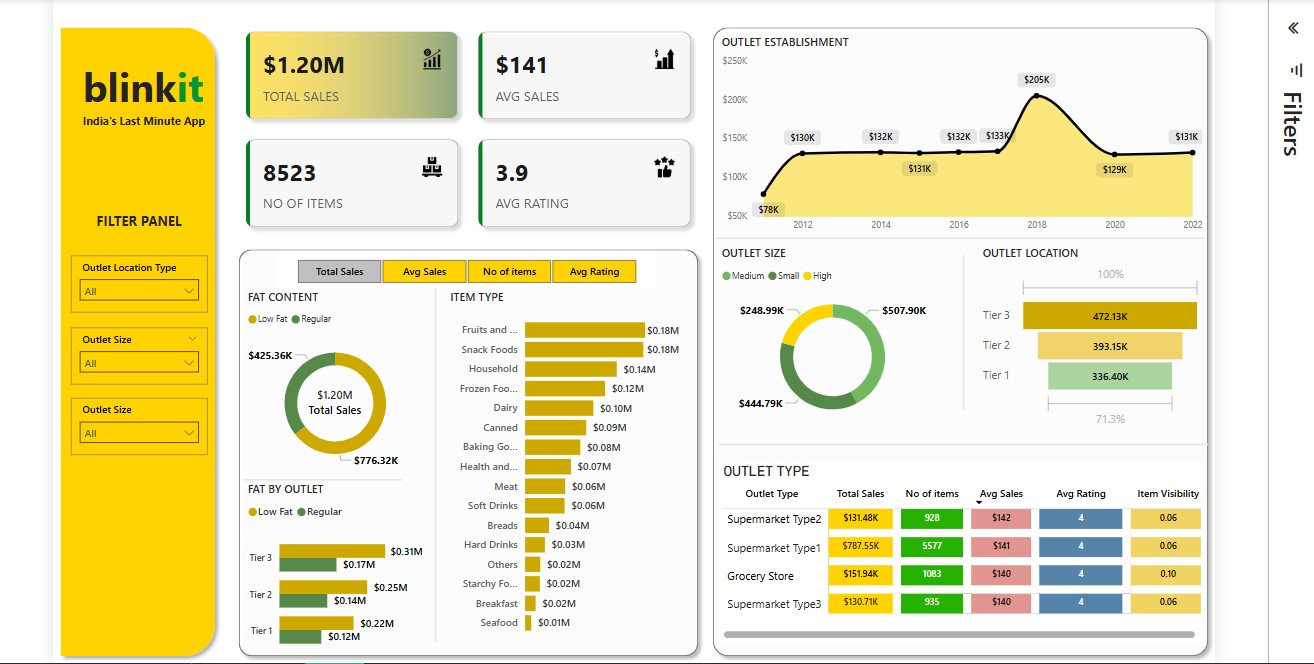

This screenshot's page, from the dashboard's own definition file:
{"tool":"powerbi","page":{"name":"Page 1","canvas":[1400,800],"ordinal":0},"visuals":[{"type":"shape","box":[0,25.3,204.2,775.3],"z":0},{"type":"textbox","box":[269.5,25,205,750],"z":1000},{"type":"textbox","box":[522.5,25,205,750],"z":2000},{"type":"textbox","box":[31,66.1,165.4,84.7],"z":3000},{"type":"textbox","box":[31,132.3,165.4,49.6],"z":4000},{"type":"cardVisual","fields":{"Data":["BlinkIT Grocery Data.Total Sales","BlinkIT Grocery Data.Avg Sales","BlinkIT Grocery Data.No of items","BlinkIT Grocery Data.Avg Rating"]},"box":[215.1,21.7,571.1,271.1],"z":5000},{"type":"shape","box":[215.1,292.8,571.1,507.8],"z":6000},{"type":"donutChart","title":"FAT CONTENT","fields":{"Y":["BlinkIT Grocery Data.Total Sales"],"Category":["BlinkIT Grocery Data.Item Fat Content"]},"box":[229.5,348.8,220.5,231.3],"z":7000},{"type":"slicer","fields":{"Values":["Metrics.Metrics"]},"box":[269.3,307.2,457.2,41.6],"z":8000},{"type":"cardVisual","fields":{"Data":["BlinkIT Grocery Data.Total Sales"]},"box":[289.2,450,101.2,61.4],"z":9000},{"type":"clusteredBarChart","title":"FAT BY OUTLET","fields":{"Y":["BlinkIT Grocery Data.Total Sales"],"Category":["BlinkIT Grocery Data.Outlet Location Type"],"Series":["BlinkIT Grocery Data.Item Fat Content"]},"box":[229.5,580.1,220.5,220.5],"z":10000},{"type":"shape","box":[229.5,558.4,191.6,41.6],"z":11000},{"type":"shape","box":[448.2,348.8,25.3,426.5],"z":12000},{"type":"barChart","title":"ITEM TYPE","fields":{"Y":["BlinkIT Grocery Data.Total Sales"],"Category":["BlinkIT Grocery Data.Item Type"]},"box":[473.5,348.8,285.5,426.5],"z":13000},{"type":"shape","box":[786.2,25.3,614.5,775.3],"z":14000},{"type":"lineChart","title":"OUTLET ESTABLISHMENT","fields":{"Y":["BlinkIT Grocery Data.Total Sales"],"Category":["BlinkIT Grocery Data.Outlet Establishment Year"]},"box":[800.6,41.6,589.2,247.6],"z":15000},{"type":"shape","box":[798.8,267.5,589.2,41.6],"z":16000},{"type":"donutChart","title":"OUTLET SIZE","fields":{"Y":["BlinkIT Grocery Data.Total Sales"],"Category":["BlinkIT Grocery Data.Outlet Size"]},"box":[800.6,296.4,276.5,224.1],"z":17000},{"type":"shape","box":[1093.4,309,7.2,186.1],"z":18000},{"type":"funnel","title":"OUTLET LOCATION","fields":{"Category":["BlinkIT Grocery Data.Outlet Location Type"],"Y":["Sum(BlinkIT Grocery Data.Sales)"]},"box":[1115.1,296.4,272.9,224.1],"z":19000},{"type":"shape","box":[802.4,525.9,589.2,21.7],"z":20000},{"type":"pivotTable","title":"OUTLET TYPE","fields":{"Rows":["BlinkIT Grocery Data.Outlet Type"],"Values":["BlinkIT Grocery Data.Total Sales","BlinkIT Grocery Data.No of items","BlinkIT Grocery Data.Avg Sales","BlinkIT Grocery Data.Avg Rating","Avg(BlinkIT Grocery Data.Item Visibility)"]},"box":[802.4,558.4,585.6,216.9],"z":21000},{"type":"slicer","fields":{"Values":["BlinkIT Grocery Data.Outlet Location Type"]},"box":[21.7,309,164.5,68.7],"z":22000},{"type":"slicer","fields":{"Values":["BlinkIT Grocery Data.Outlet Size"]},"box":[21.7,395.8,164.5,68.7],"z":23000},{"type":"slicer","fields":{"Values":["BlinkIT Grocery Data.Outlet Size"]},"box":[21.7,480.7,164.5,68.7],"z":24000},{"type":"textbox","box":[21.7,251.2,164.5,38],"z":25000}]}

Visuals, with their boxes on the page's 1400x800 design canvas (x1, y1, x2, y2). These are canvas units, not pixel positions in the 1314x664 screenshot, which may show the page scaled, cropped or inside an application window:
shape: <box>0,25,204,801</box>
textbox: <box>270,25,474,775</box>
textbox: <box>522,25,728,775</box>
textbox: <box>31,66,196,151</box>
textbox: <box>31,132,196,182</box>
cardVisual - BlinkIT Grocery Data.Total Sales x BlinkIT Grocery Data.Avg Sales: <box>215,22,786,293</box>
shape: <box>215,293,786,801</box>
"FAT CONTENT" donutChart: <box>230,349,450,580</box>
slicer - Metrics.Metrics: <box>269,307,726,349</box>
cardVisual - BlinkIT Grocery Data.Total Sales: <box>289,450,390,511</box>
"FAT BY OUTLET" clusteredBarChart: <box>230,580,450,801</box>
shape: <box>230,558,421,600</box>
shape: <box>448,349,474,775</box>
"ITEM TYPE" barChart: <box>474,349,759,775</box>
shape: <box>786,25,1401,801</box>
"OUTLET ESTABLISHMENT" lineChart: <box>801,42,1390,289</box>
shape: <box>799,268,1388,309</box>
"OUTLET SIZE" donutChart: <box>801,296,1077,520</box>
shape: <box>1093,309,1101,495</box>
"OUTLET LOCATION" funnel: <box>1115,296,1388,520</box>
shape: <box>802,526,1392,548</box>
"OUTLET TYPE" pivotTable: <box>802,558,1388,775</box>
slicer - BlinkIT Grocery Data.Outlet Location Type: <box>22,309,186,378</box>
slicer - BlinkIT Grocery Data.Outlet Size: <box>22,396,186,464</box>
slicer - BlinkIT Grocery Data.Outlet Size: <box>22,481,186,549</box>
textbox: <box>22,251,186,289</box>
